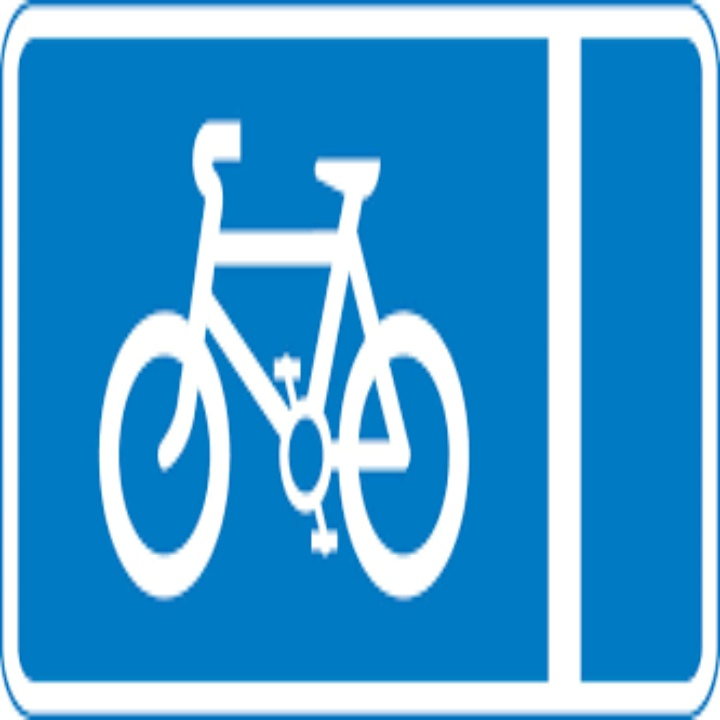bicycle: (97, 121, 473, 597)
